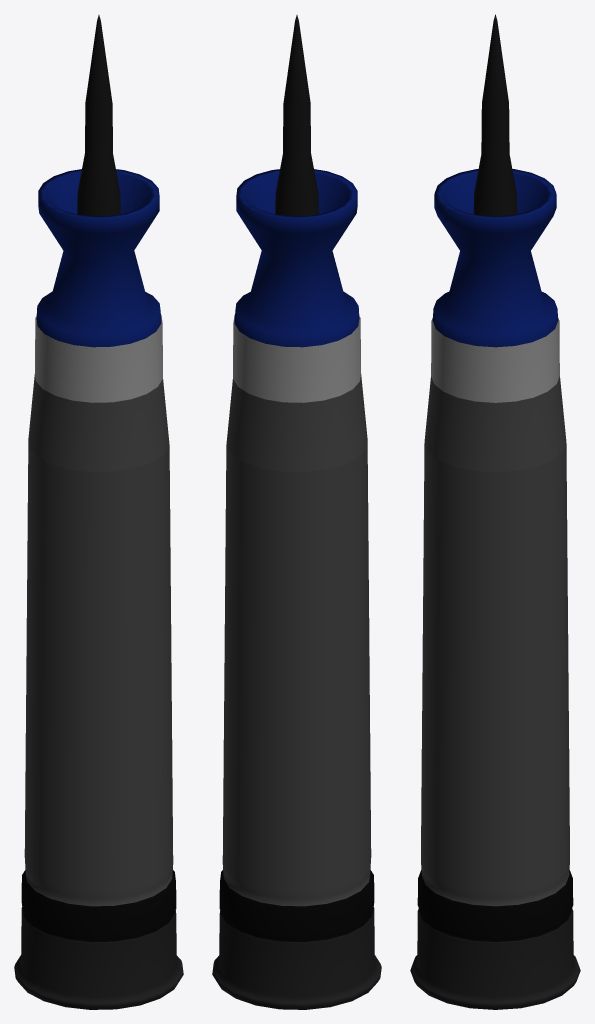
File: SabotTexture.fbx
The picture shows the model from 3 angles, left to right: view 1: azimuth 30°, elevation 25°; view 2: azimuth 150°, elevation 25°; view 3: azimuth 270°, elevation 25°; orthographic projection.
Visible parts, largest first — view 1: pCylinder1; view 2: pCylinder1; view 3: pCylinder1.
Boxes of the visible parts, <box> form: pCylinder1: <box>14,15,183,1009</box>; pCylinder1: <box>212,15,381,1009</box>; pCylinder1: <box>410,14,580,1009</box>.
Bounding box in the file's own units: 2.75 × 17.12 × 2.75.
